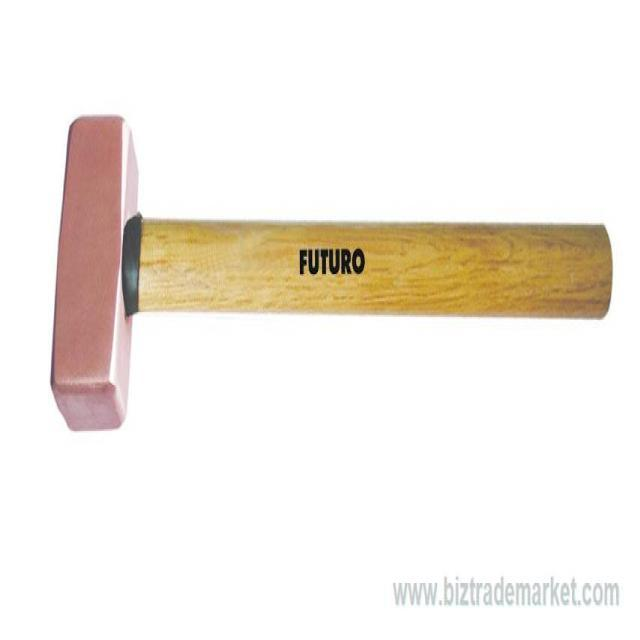hammer: (41, 87, 622, 462)
